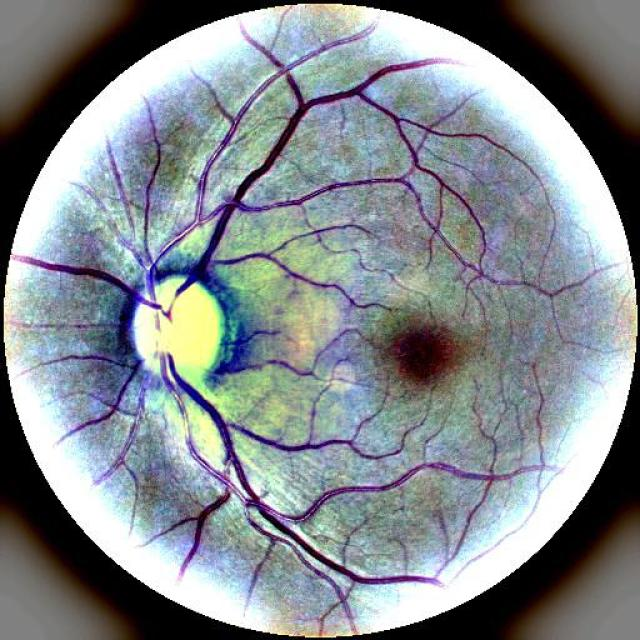Macula: (385, 324, 461, 384)
Nerves: (169, 358, 246, 489), (176, 202, 235, 294), (12, 256, 138, 299), (239, 164, 266, 192), (140, 295, 159, 309)
Optic Disk: (131, 275, 225, 388)
